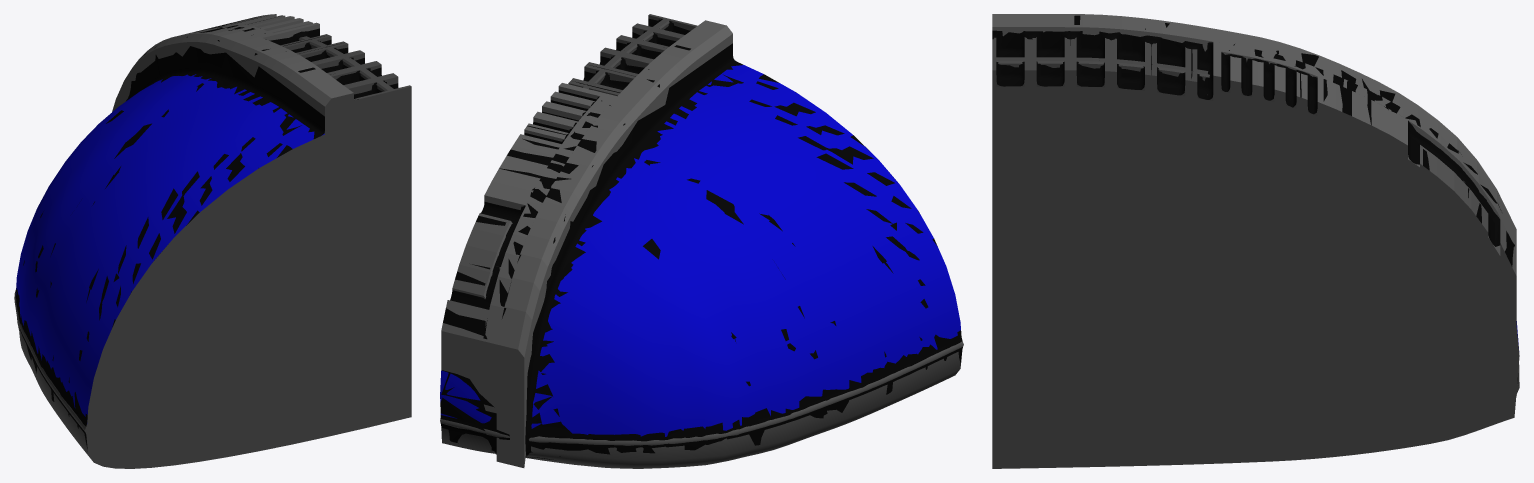
File: newsh9-16.glb
3 renders of one model, left to right at view 1: azimuth 30°, elevation 25°; view 2: azimuth 150°, elevation 25°; view 3: azimuth 270°, elevation 25°, orthographic. The views are drawn at different scales.
Parts seen in each view (by area): view 1: newsh9-16, newsh9-16_outline; view 2: newsh9-16, newsh9-16_outline; view 3: newsh9-16, newsh9-16_outline.
Boxes of the visible parts, bbox=[...] form: newsh9-16: bbox=[14, 14, 411, 468]; newsh9-16_outline: bbox=[15, 15, 398, 449]; newsh9-16: bbox=[440, 14, 963, 468]; newsh9-16_outline: bbox=[440, 18, 962, 461]; newsh9-16: bbox=[992, 14, 1519, 468]; newsh9-16_outline: bbox=[992, 15, 1518, 395].
Size of the model in its own units: 1.89 by 1.87 by 2.19.
